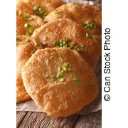poori: (23, 49, 98, 117), (32, 18, 98, 71), (47, 2, 100, 51), (16, 33, 44, 101)
